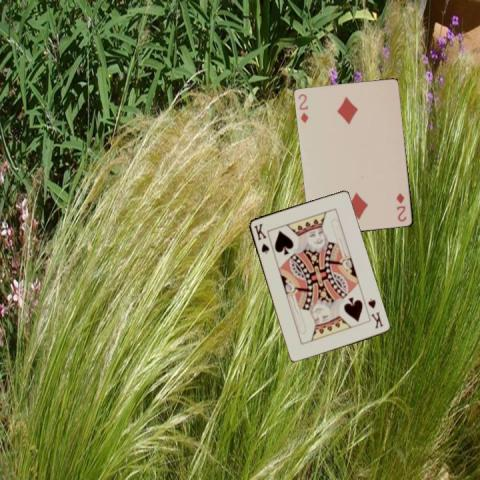2d: (295, 91, 310, 125), (393, 190, 408, 223)
Ks: (250, 221, 270, 255), (365, 295, 384, 330)
